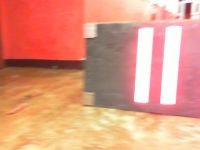switch: (159, 25, 182, 105), (133, 26, 154, 104)
